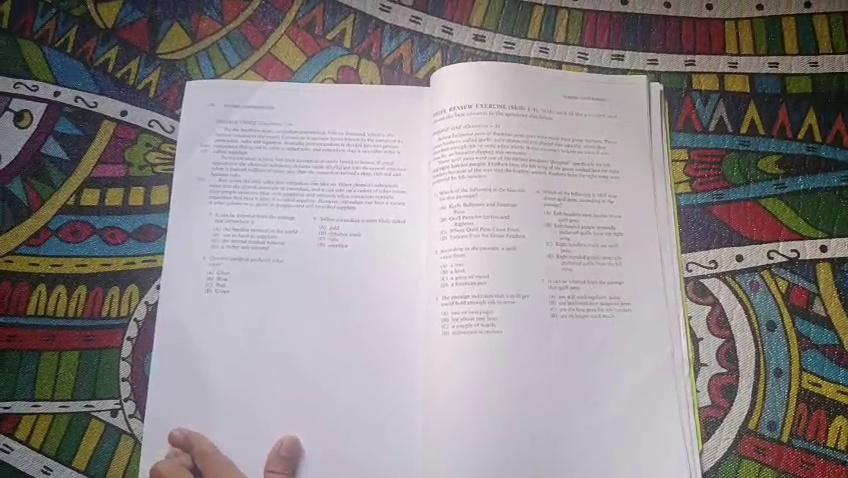Kertas: (185, 86, 606, 429), (406, 90, 669, 478)
